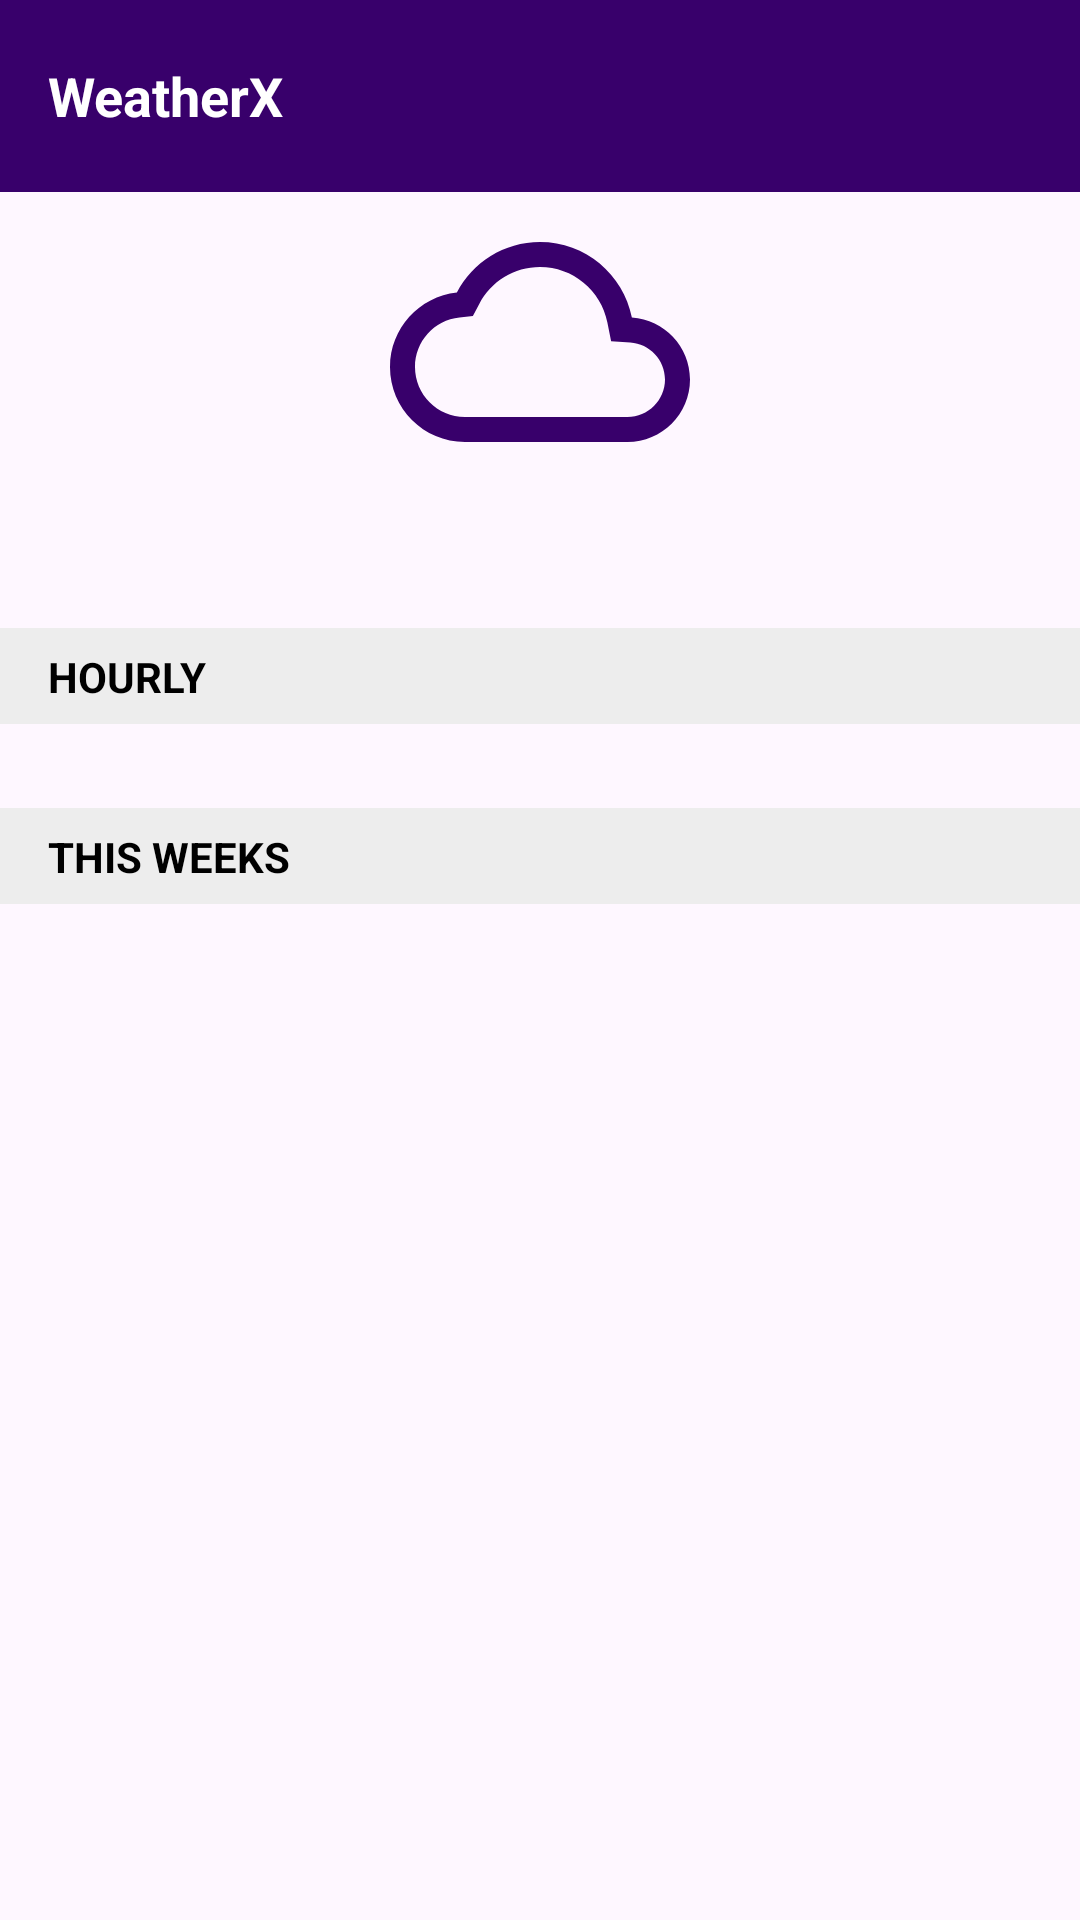

Icon click points for this 1080w x 1920h phone screenshot, format point (x, y):
cloud: point (540, 342)
